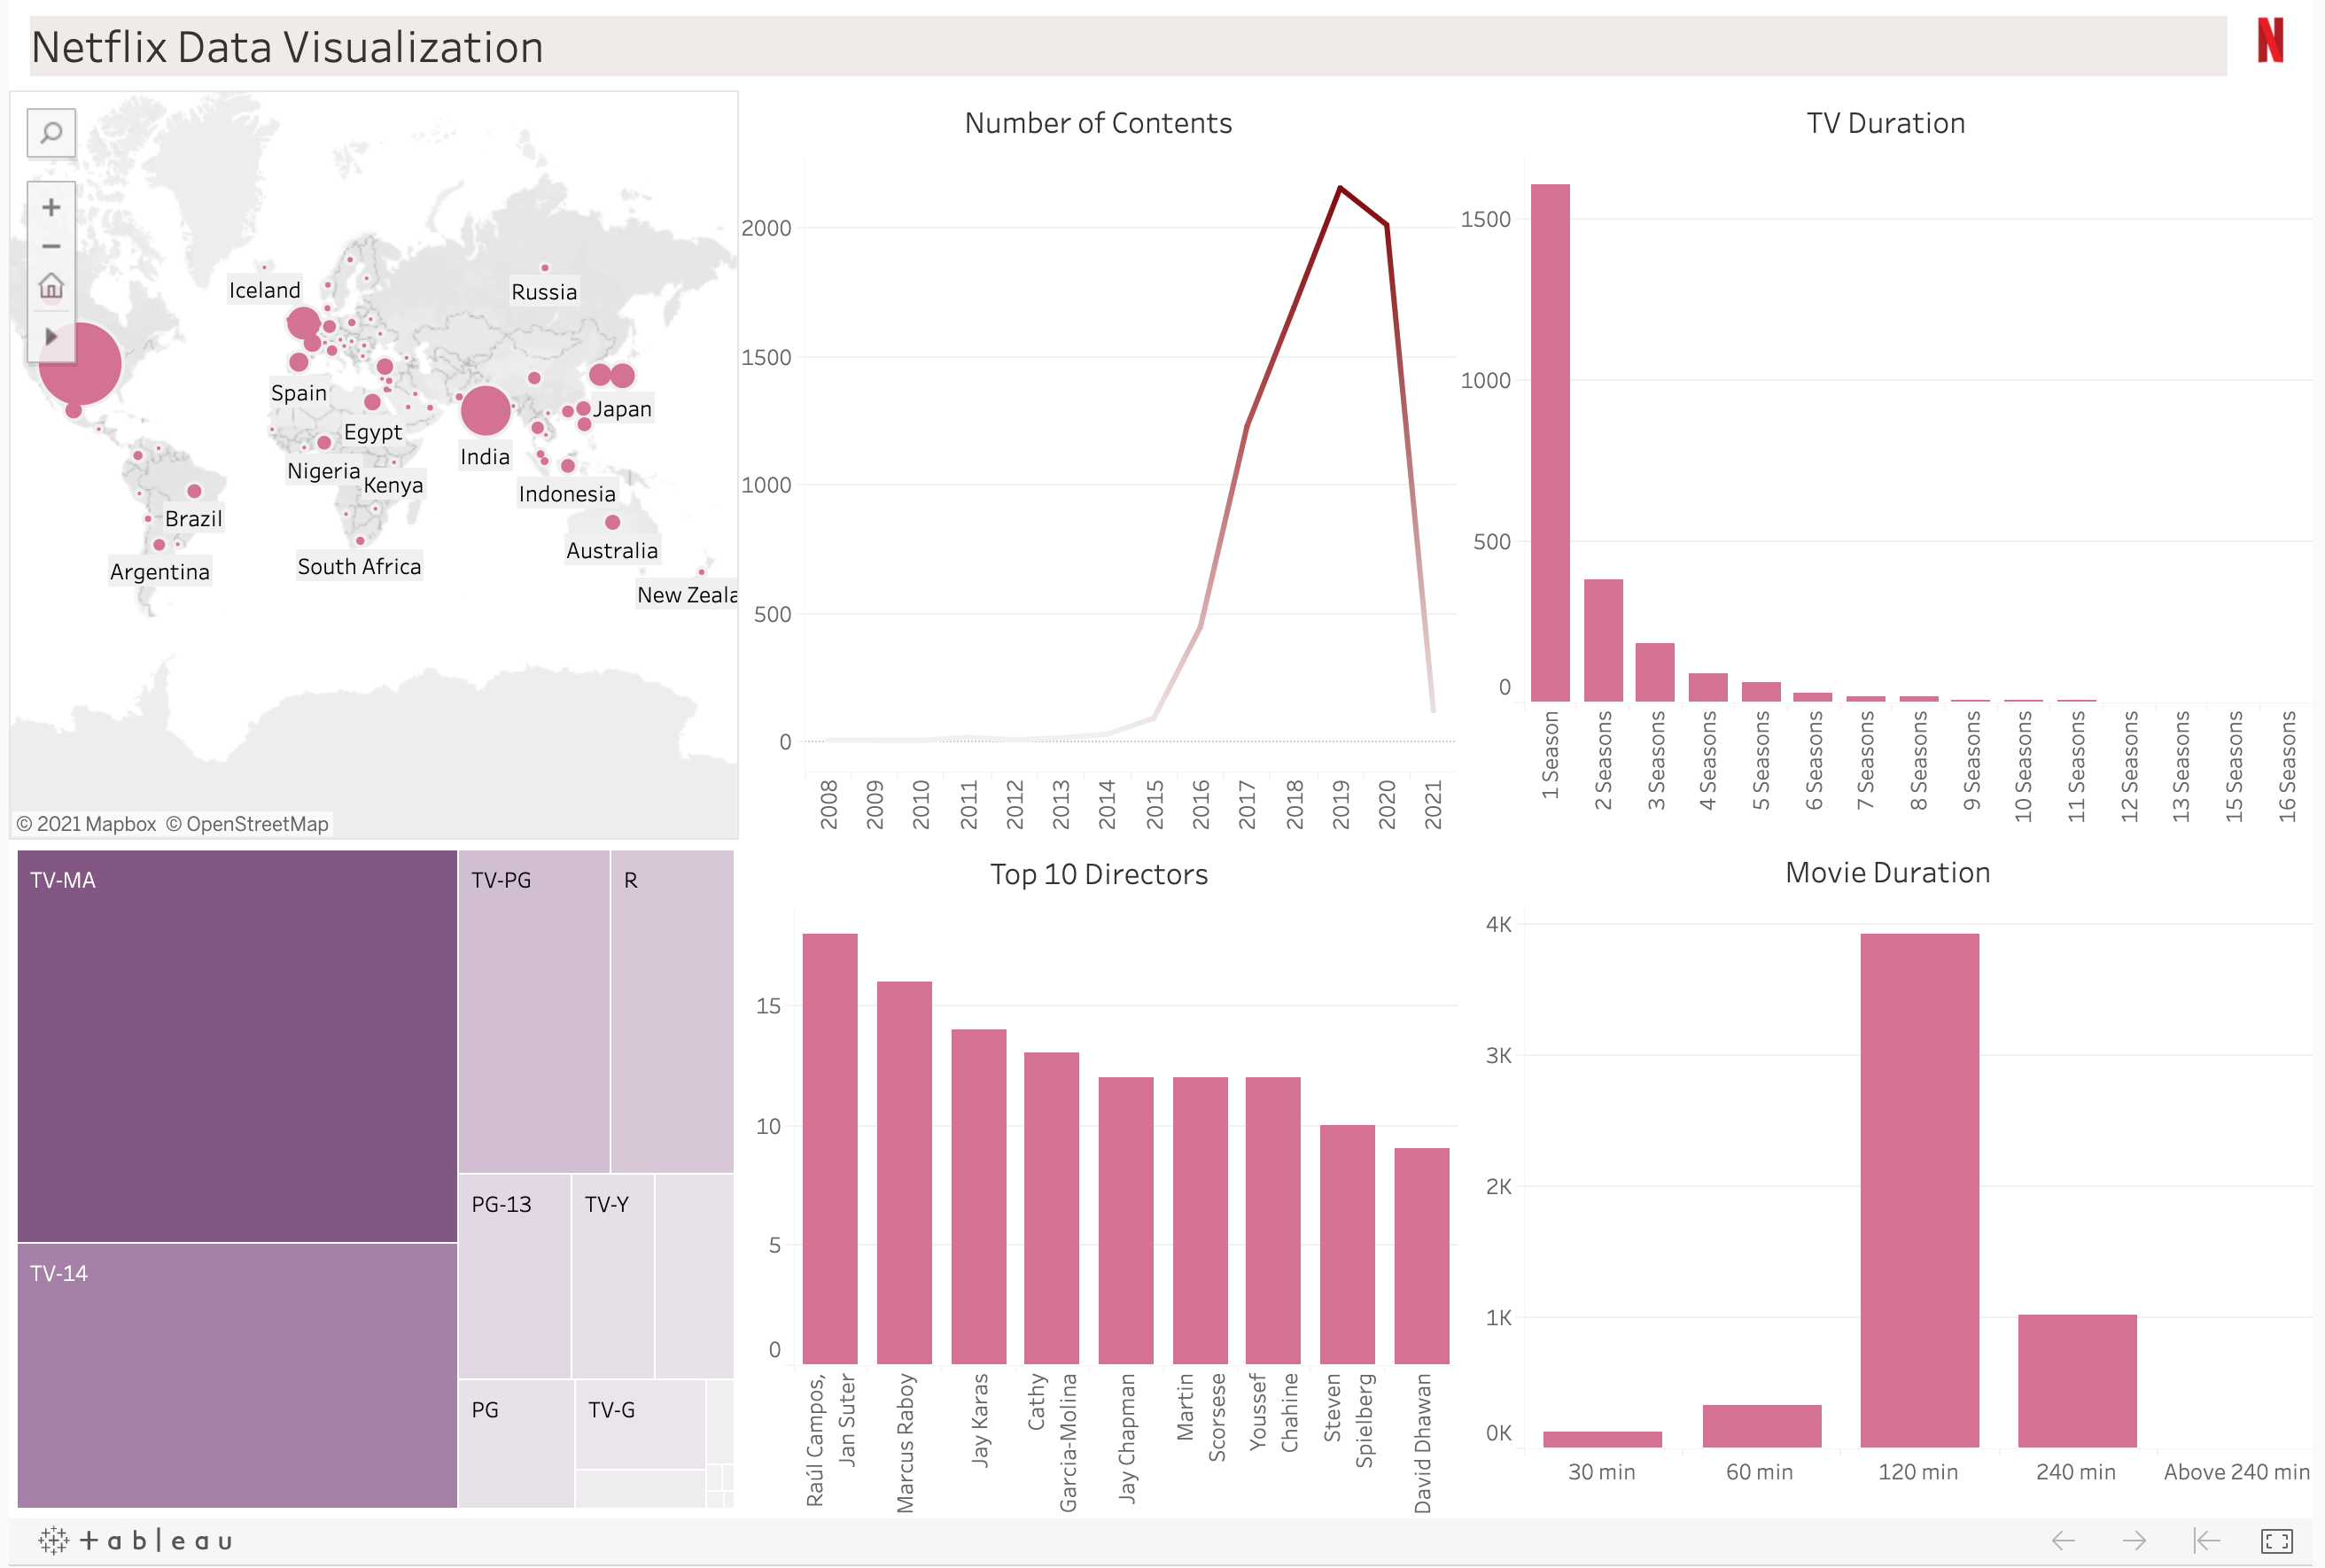

This screenshot's page, from the dashboard's own definition file:
{"tool":"tableau","page":{"name":"Dashboard 1","canvas":[1000,1000],"units":"permille","ordinal":0},"visuals":[{"type":"worksheet","box":[0,0,1000,1000]},{"type":"worksheet","param":"Image/netflix logo.png","box":[963.1,1.2,37.7,60]},{"type":"worksheet","param":"vert","box":[6.2,10,987.7,980]},{"type":"worksheet","box":[6.2,10,987.7,52.5]},{"type":"worksheet","title":"Map","mark":"Automatic","box":[0,62.5,316.9,492.5]},{"type":"worksheet","box":[6.2,62.5,987.7,927.5]},{"type":"worksheet","title":"Number of Contents","mark":"Automatic","rows":["netflix_titles.csv_5F2FD6B18F4448B99BAFC5096FE8FD2C"],"cols":["date_added"],"box":[317.7,62.5,310.8,493.8]},{"type":"worksheet","title":"TV Duration","mark":"Automatic","rows":["netflix_titles.csv_5F2FD6B18F4448B99BAFC5096FE8FD2C"],"cols":["duration"],"box":[630,62.5,370,495]},{"type":"worksheet","title":"Movie Duration","mark":"Automatic","rows":["netflix_titles.csv_5F2FD6B18F4448B99BAFC5096FE8FD2C"],"cols":["Calculation_4517673388217745411"],"box":[630,555,371.5,445]},{"type":"worksheet","title":"Rating","mark":"Automatic","box":[0,556.2,317.7,441.2]},{"type":"worksheet","title":"Top 10 Directors","mark":"Automatic","rows":["netflix_titles.csv_5F2FD6B18F4448B99BAFC5096FE8FD2C"],"cols":["director"],"box":[317.7,556.2,311.5,442.5]}]}

Visuals, with their boxes on the dashboard's canvas, which has no fixed pixel size, in thousandths of its width and height (x1, y1, x2, y2). These are canvas units, not pixel positions in the 2325x1568 screenshot, which may show the page scaled, cropped or inside an application window:
worksheet: 0/0/1000/1000
worksheet: 963/1/1001/61
worksheet: 6/10/994/990
worksheet: 6/10/994/62
"Map" worksheet: 0/62/317/555
worksheet: 6/62/994/990
"Number of Contents" worksheet: 318/62/628/556
"TV Duration" worksheet: 630/62/1000/558
"Movie Duration" worksheet: 630/555/1002/1000
"Rating" worksheet: 0/556/318/997
"Top 10 Directors" worksheet: 318/556/629/999
